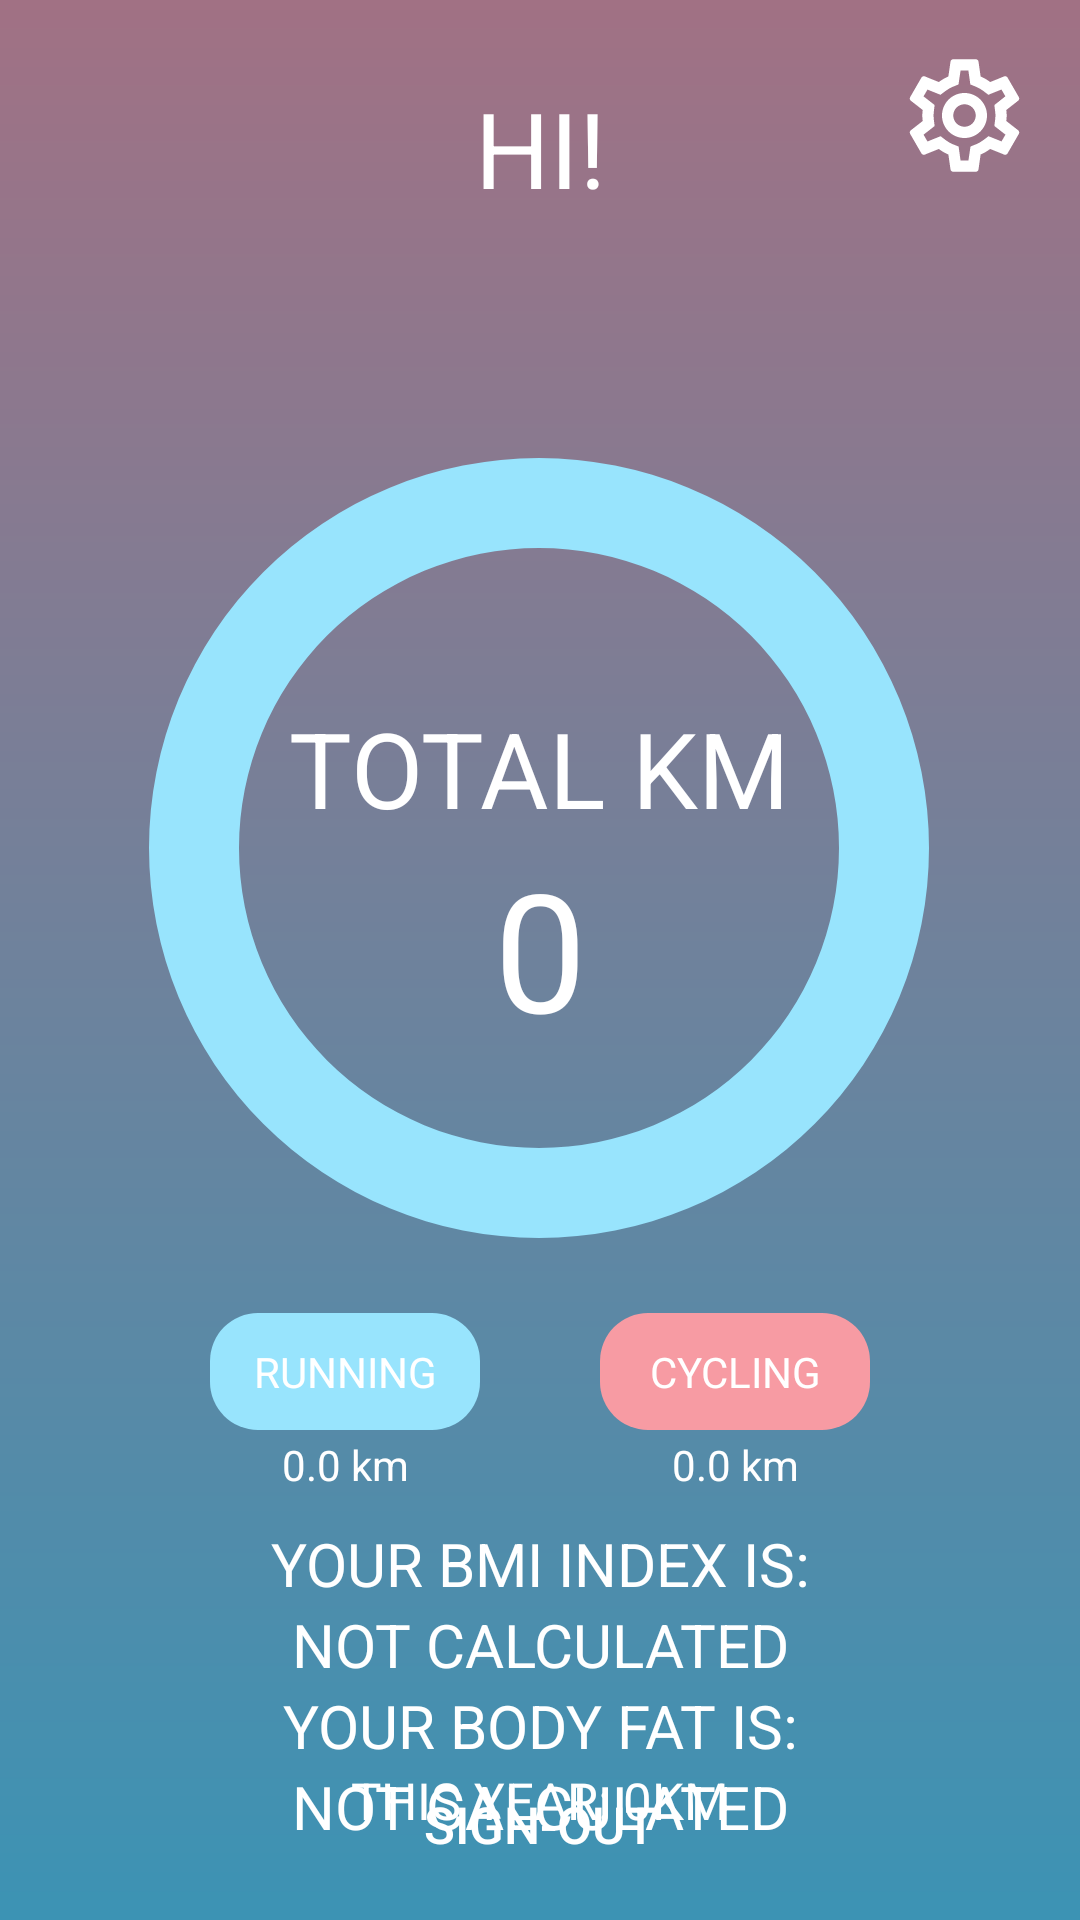

Screen size 1080x1920. Icon name, then its box in pixels as (x1, y1, x2, y2):
settings icon: (909, 59, 1020, 172)
